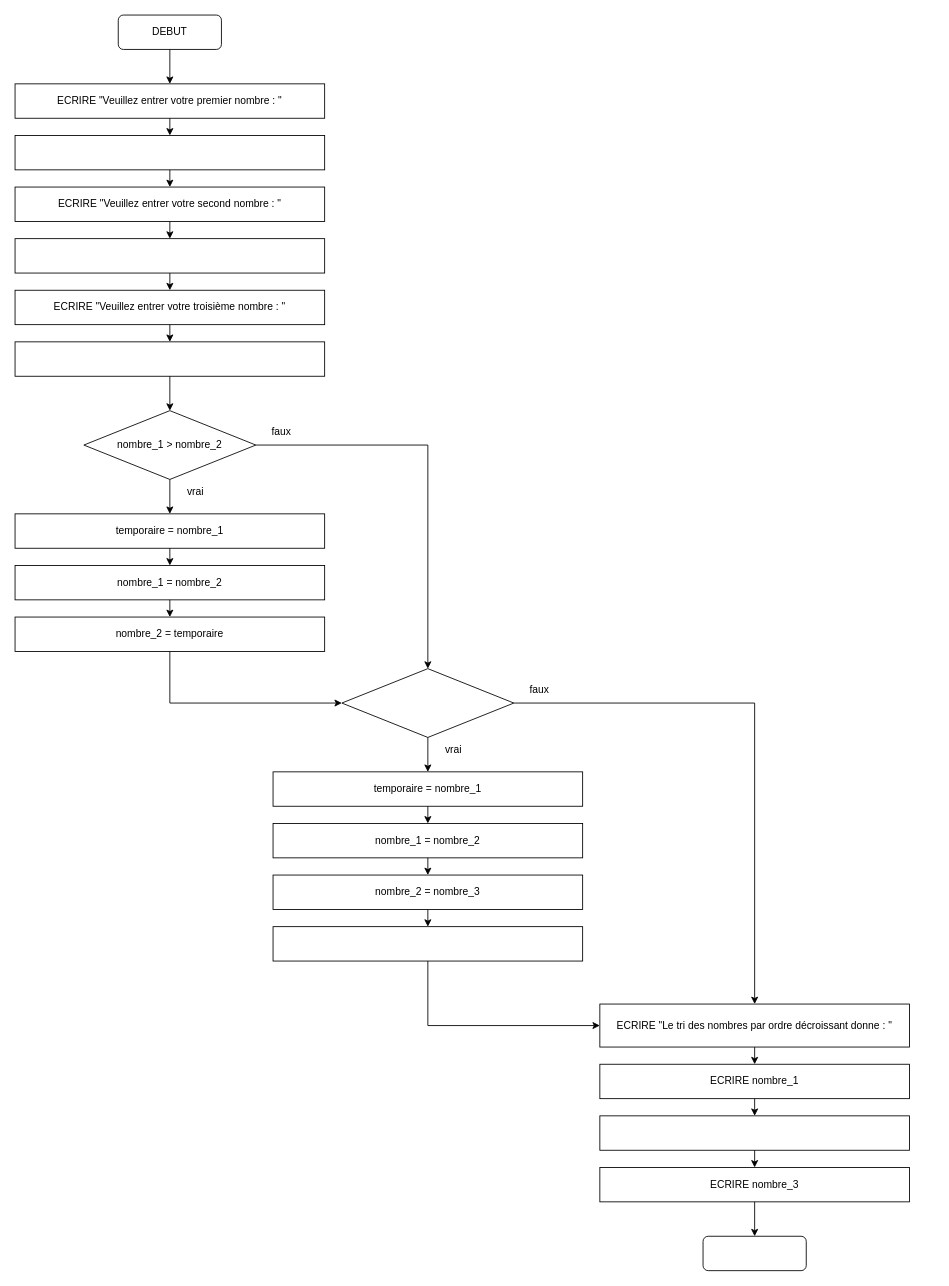
This 949x1286 diagram has some shape labels left out. The shapes that lost their labels are listed below. From the top down, each one's centre as x and y in pixels, then its label:
At point 169,152: "LIRE nombre_1".
At point 169,255: "LIRE nombre_2".
At point 169,358: "LIRE nombre_3".
At point 427,702: "nombre_1 < nombre_3".
At point 427,943: "nombre_3 = temporaire".
At point 754,1132: "ECRIRE nombre_2".
At point 754,1253: "FIN".
